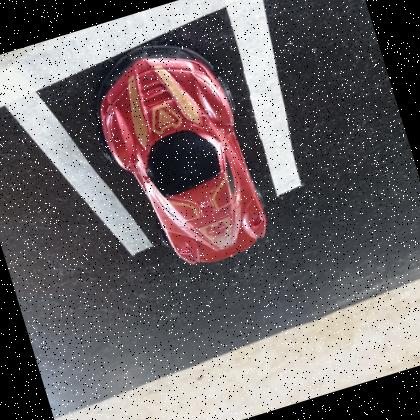Car: (98, 43, 268, 264)
